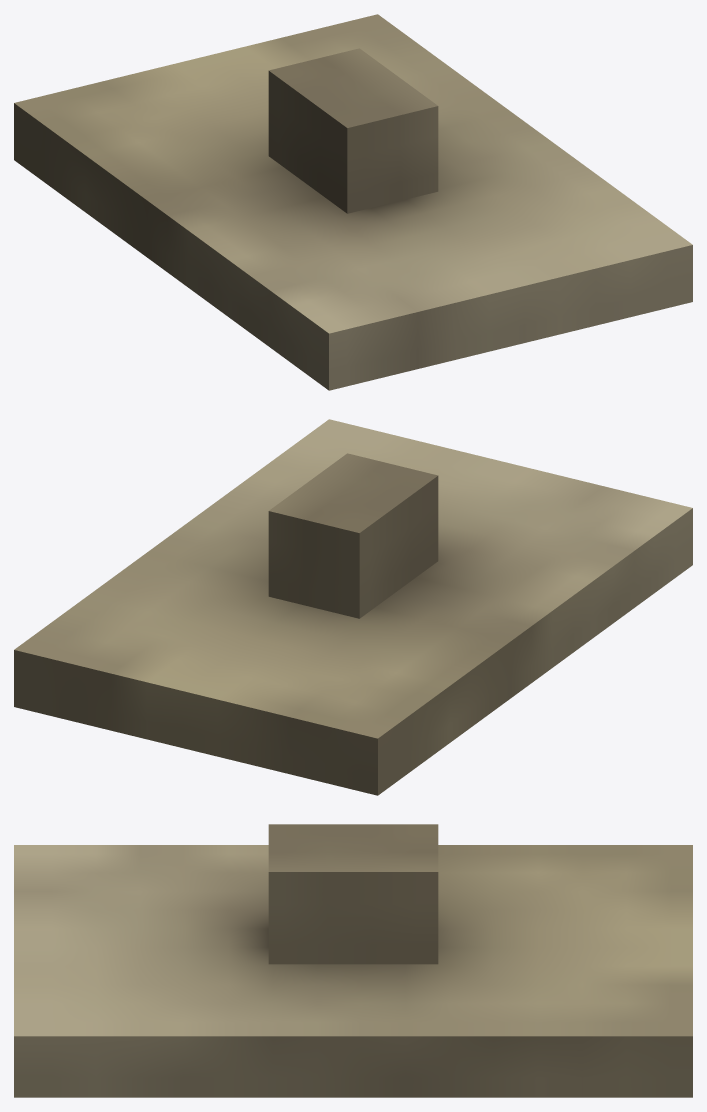
File: light_switch.obj
3 views of the same model, one above another, from view 1: azimuth 30°, elevation 25°; view 2: azimuth 150°, elevation 25°; view 3: azimuth 270°, elevation 25° (orthographic). The views are drawn at different scales.
Size of the model in its own units: 0.08 by 0.03 by 0.12.
Materials: 1 (1 with a texture image).
